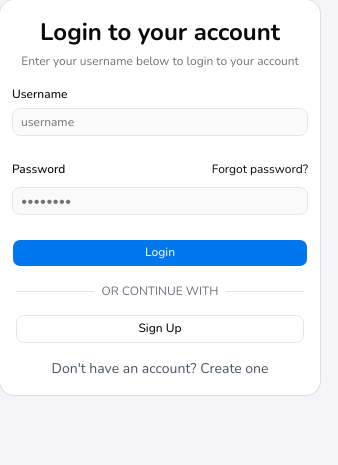
Scenario: LoginPage › shows the backend error message on rejection
Type "admin01" into the field labelled "Username".
click(160, 122); type("admin01")  # box [12,108,308,136]
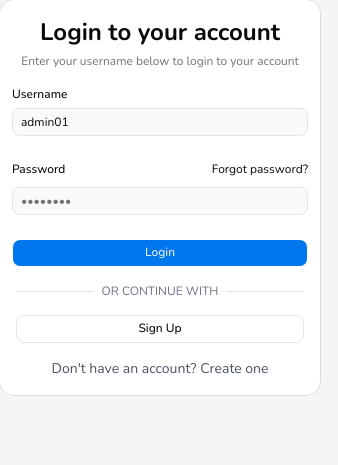
Type "secret123" into the password field labelled "Password".
click(160, 201); type("secret123")  # box [12,187,308,215]
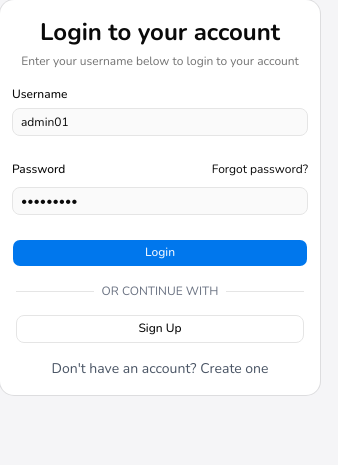
Click the button "Login".
click(160, 253)  # box [12,239,308,267]
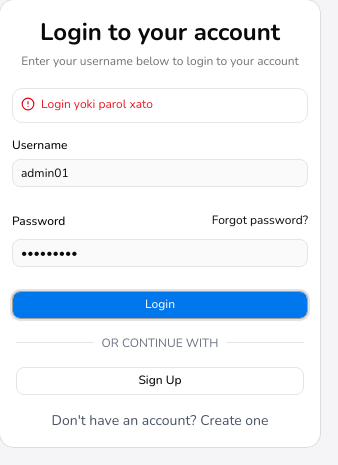
Check: the text "Login yoki parol xato" is shown, box [41,96,153,112]
